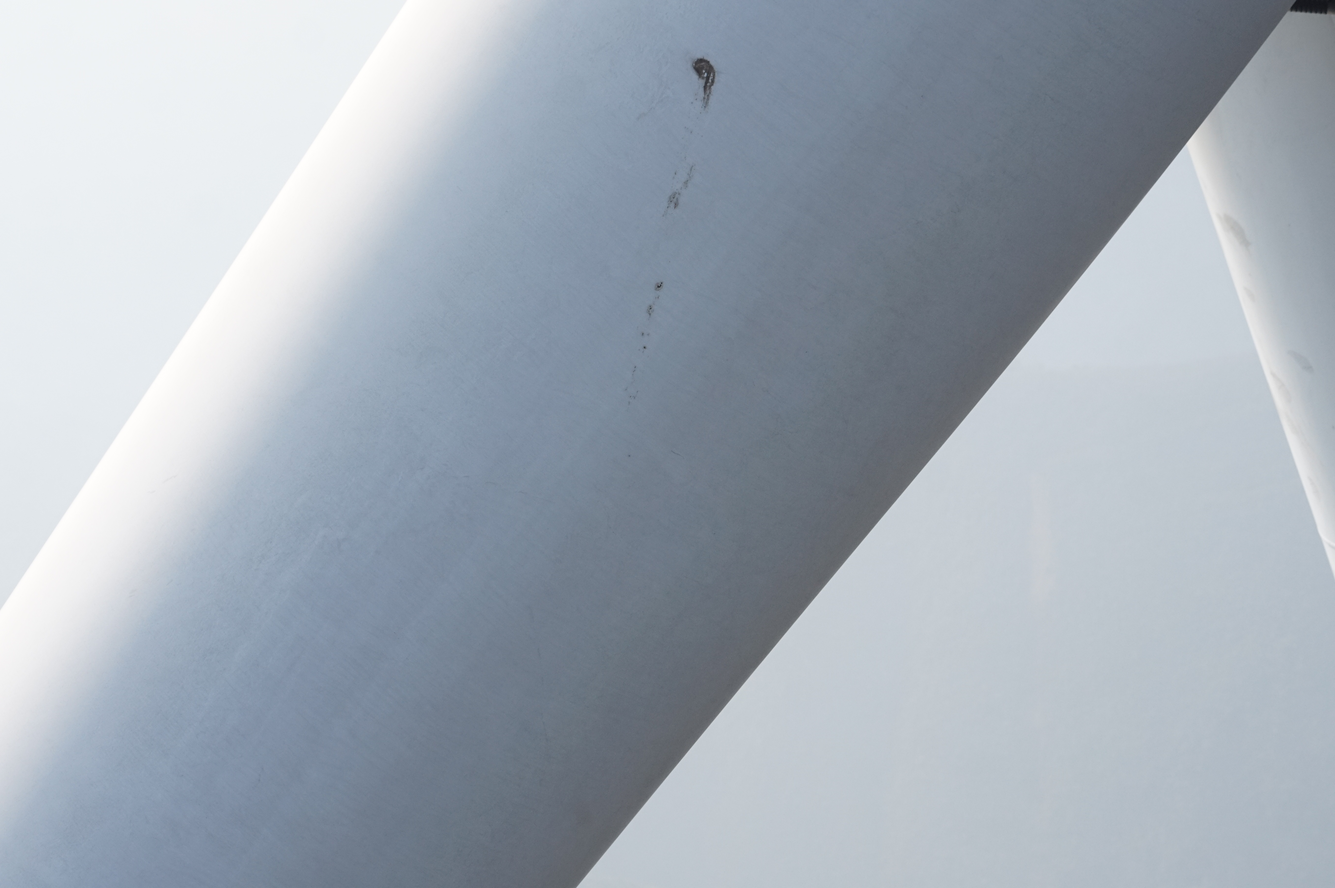Dirt: (693, 57, 717, 108)
